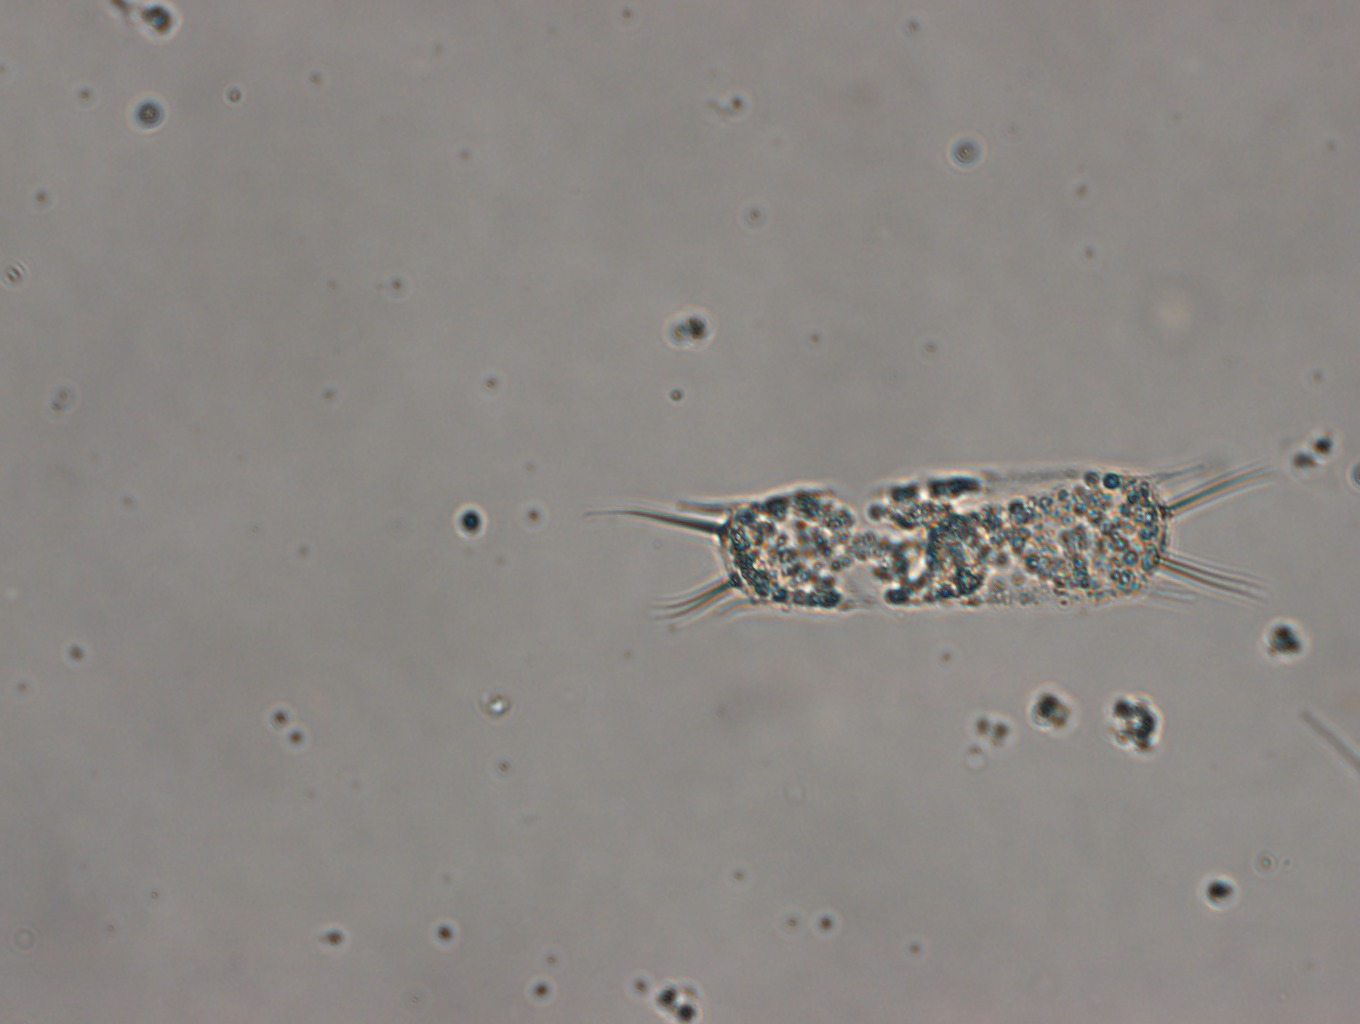biddulphia: (584, 457, 1274, 624)
